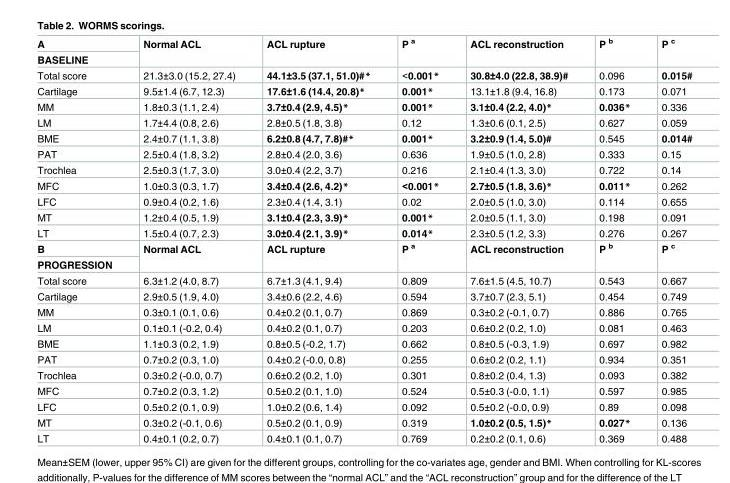table: (36, 37, 691, 443)
table column: (250, 37, 385, 443), (453, 37, 582, 443), (127, 37, 250, 443), (36, 37, 127, 443), (385, 37, 453, 443), (582, 37, 645, 443), (645, 37, 691, 443)
table row: (36, 129, 691, 146), (36, 240, 691, 257), (36, 66, 691, 82), (36, 82, 691, 98), (36, 98, 691, 114), (36, 161, 691, 177), (36, 177, 691, 193), (36, 208, 691, 224), (36, 224, 691, 240), (36, 272, 691, 288), (36, 303, 691, 319), (36, 319, 691, 335), (36, 335, 691, 351), (36, 366, 691, 382), (36, 382, 691, 398), (36, 398, 691, 414), (36, 414, 691, 430), (36, 51, 691, 66), (36, 114, 691, 129), (36, 146, 691, 161), (36, 193, 691, 208), (36, 257, 691, 272), (36, 288, 691, 303), (36, 351, 691, 366), (36, 37, 691, 51), (36, 430, 691, 443)
table spanning cell: (250, 240, 385, 272), (453, 240, 582, 272), (127, 240, 250, 272), (250, 37, 385, 66), (453, 37, 582, 66), (127, 37, 250, 66), (385, 240, 453, 272), (582, 240, 645, 272), (385, 37, 453, 66), (582, 37, 645, 66), (645, 240, 691, 272), (645, 37, 691, 66)
